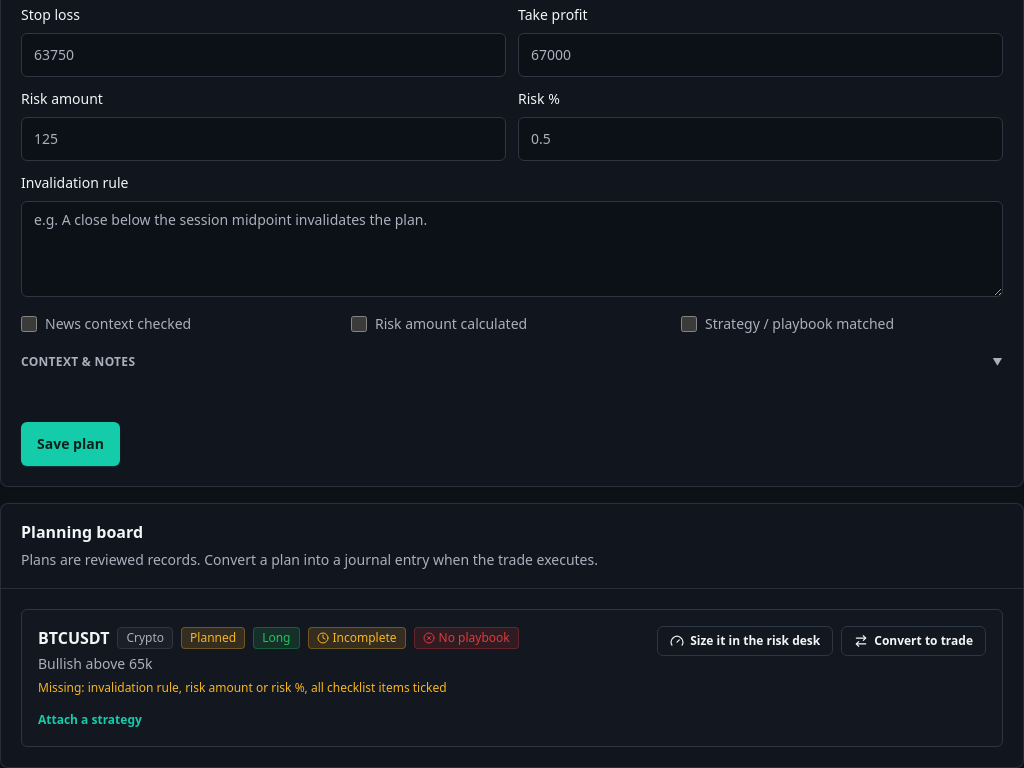
Test: a plan without a strategy can get one from the card › Cancel closes the picker without a request
The image size is (1024, 768).
(page scrolled)
Expected: the text "BTCUSDT" is shown, [38,626,109,650]
Click the button "Attach a strategy": click(90, 720) [38,712,142,728]
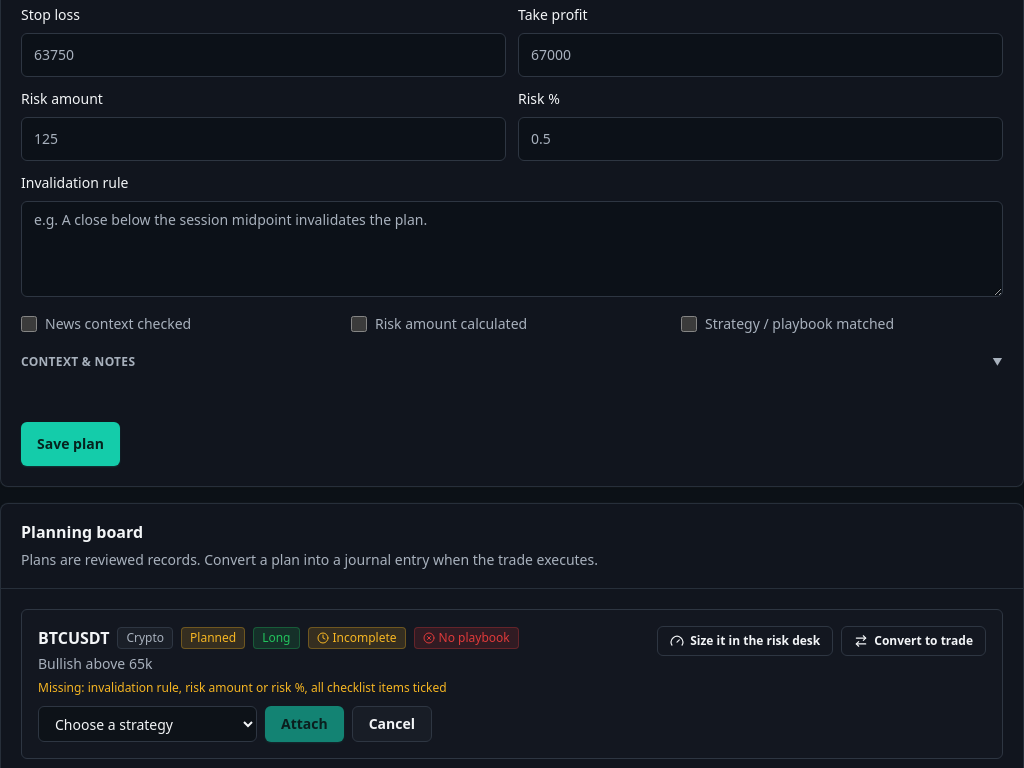
Click the button "Cancel": click(392, 724) [352,706,432,742]
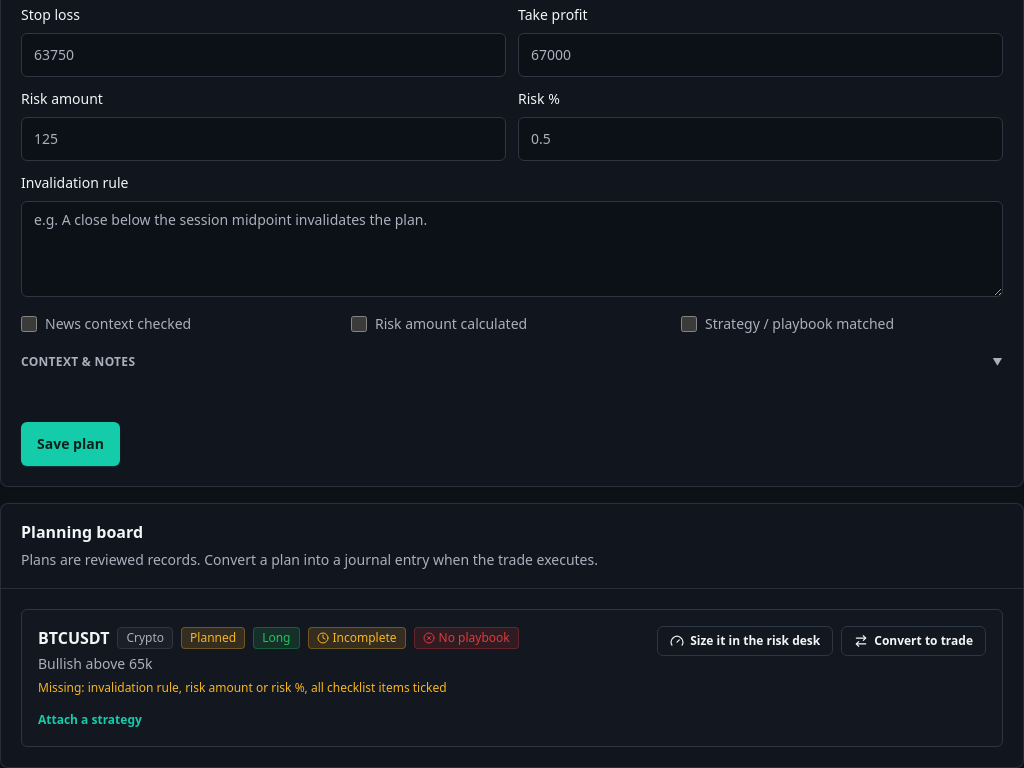
Expected: the button "Attach a strategy" is shown, [38,712,142,728]
